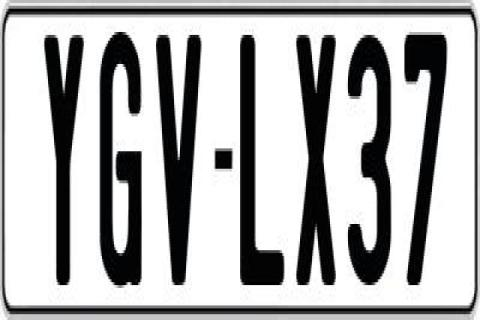0: (404, 29, 454, 291), (348, 29, 394, 297)
G: (100, 29, 146, 282)
L: (240, 29, 284, 291)
V: (154, 26, 202, 291)
X: (293, 26, 333, 288)
Y: (44, 32, 86, 294)
